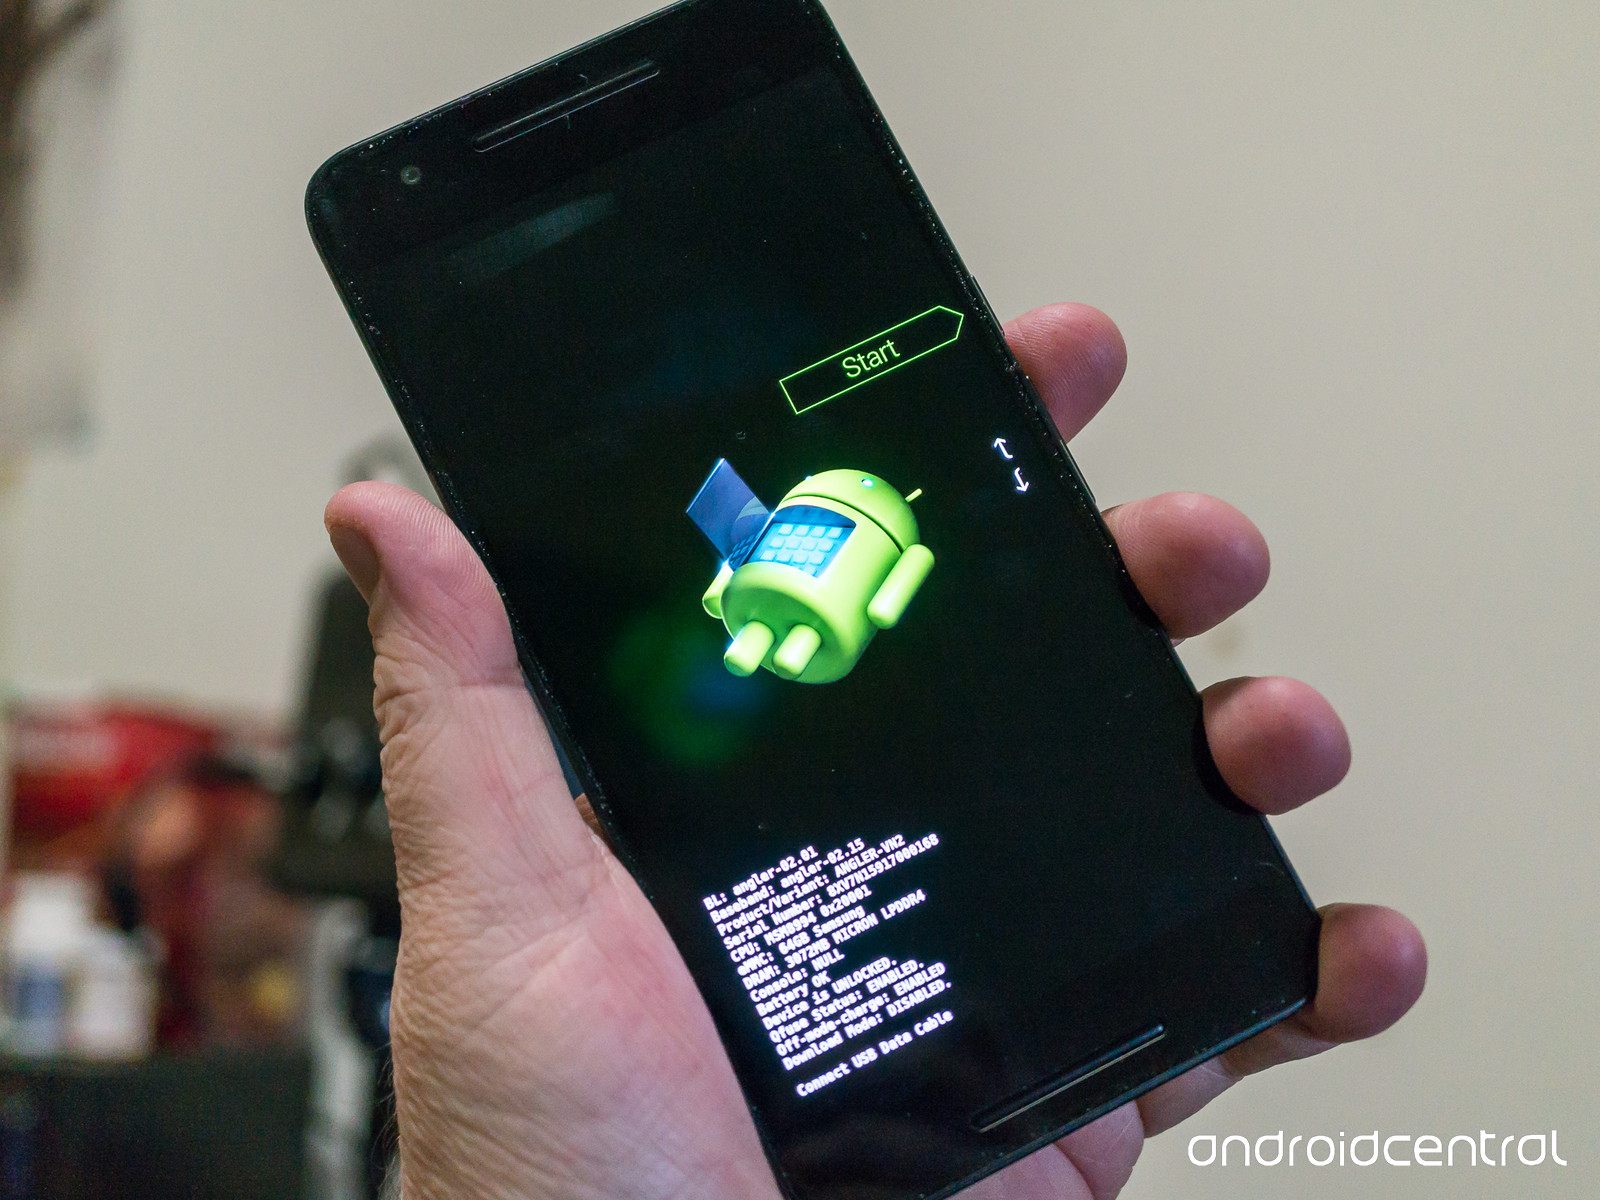smartphone: (304, 1, 1323, 1200)
